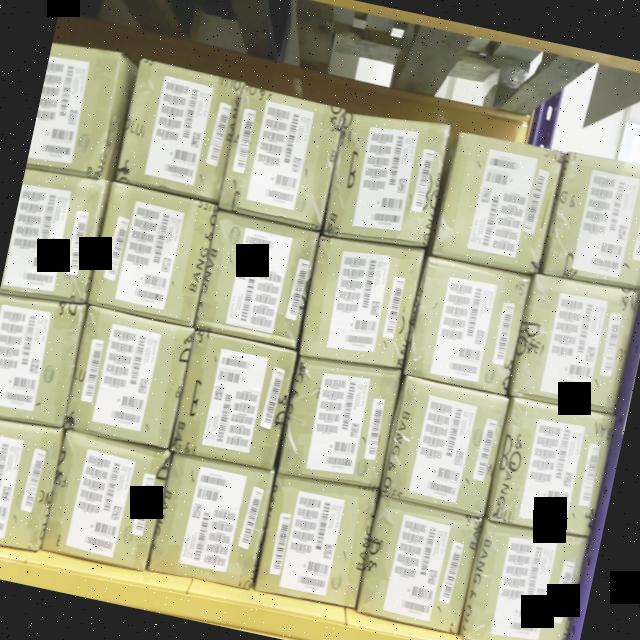box: (510, 272, 640, 416), (62, 306, 193, 448), (87, 182, 217, 324), (222, 88, 344, 226), (435, 137, 558, 273), (324, 114, 447, 248), (119, 61, 238, 199), (358, 499, 480, 632), (174, 332, 295, 466), (384, 381, 506, 512), (44, 438, 168, 566), (491, 404, 612, 534), (196, 215, 317, 342), (408, 260, 528, 388), (152, 460, 272, 587), (303, 240, 422, 368), (259, 475, 375, 602), (281, 362, 398, 485), (464, 527, 583, 640), (545, 151, 640, 292)
